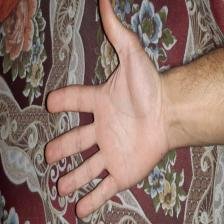five: (44, 0, 167, 219)
